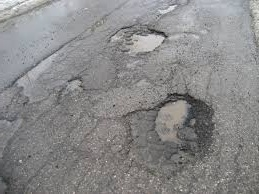pothole: (144, 93, 213, 161), (12, 45, 58, 99), (105, 22, 169, 58), (60, 72, 82, 102)
